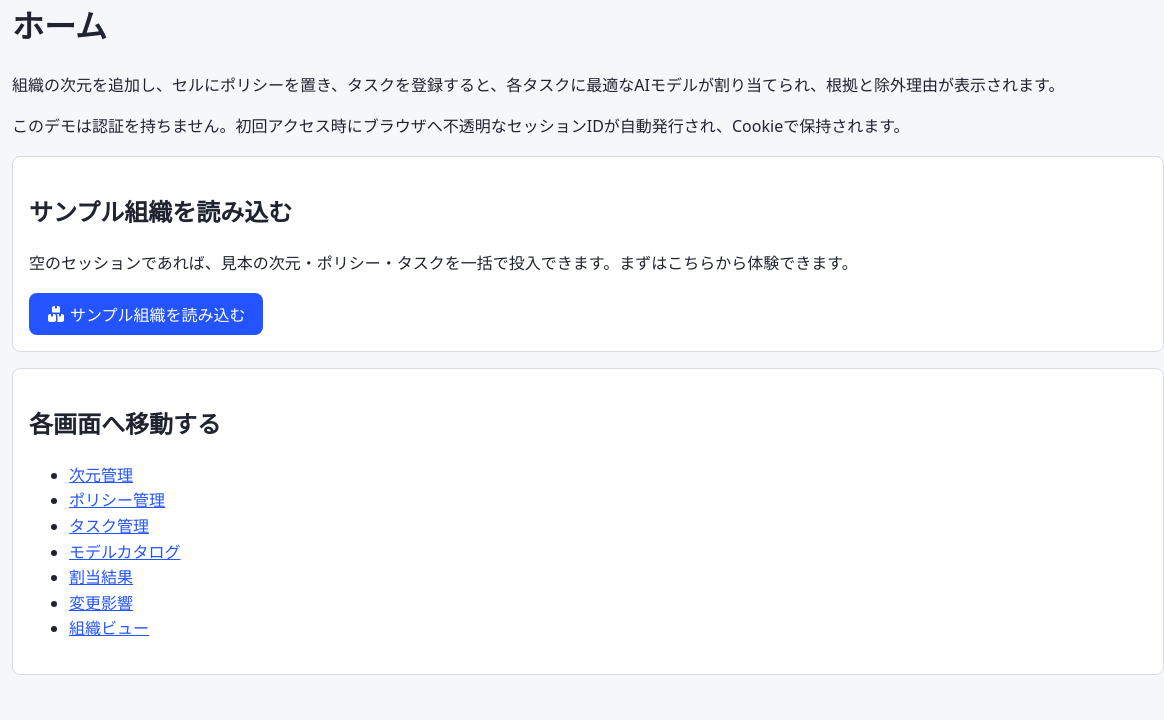
it: HomePage › サンプル読込ボタン押下でPOST /api/sample/loadを呼び、成功トーストを表示する
Click the button "サンプル組織を読み込む" at (146, 314), box [29,293,262,335]
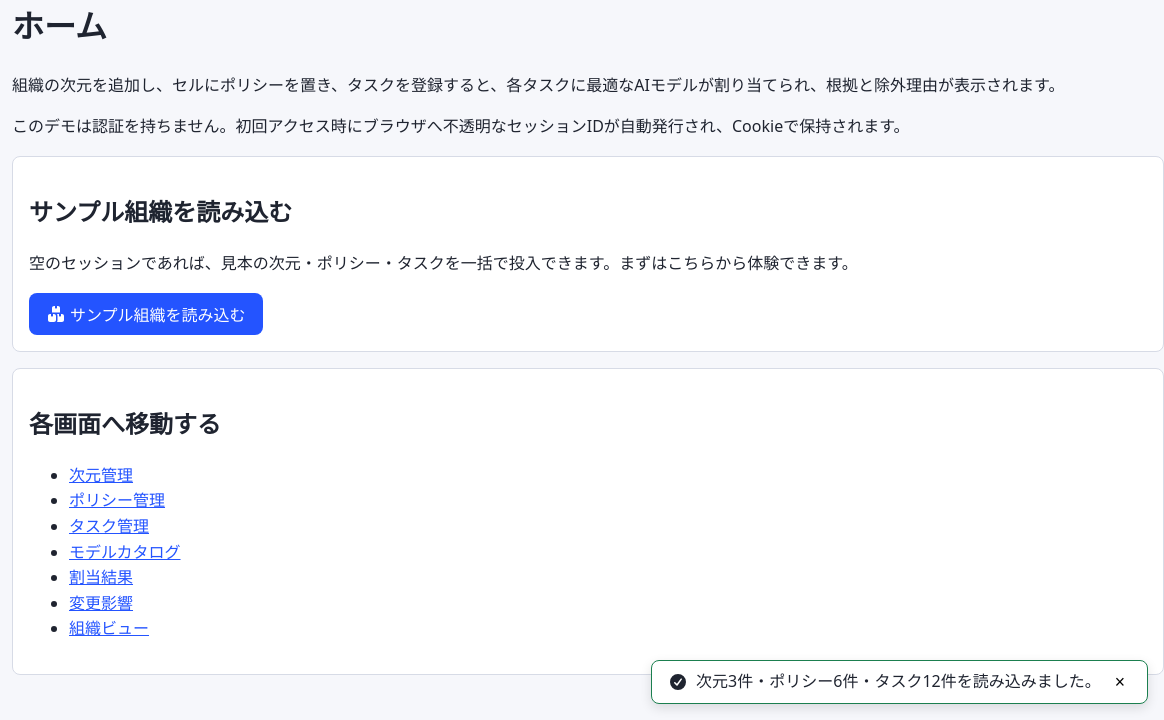
Check: the text "次元3件・ポリシー6件・タスク12件を読み込みました。" is shown, box [696,669,1101,695]
